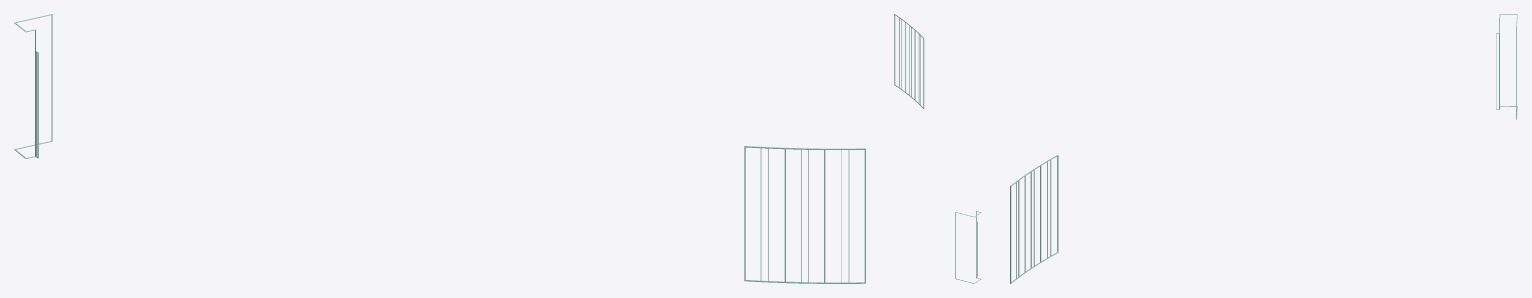
Rendered from 20160125Autodesk_Hospital_Parking Garage_2015_Existing_Garage_-_1st_Level_IfcMember.dae.
3 renders of one model, left to right at view 1: azimuth 30°, elevation 25°; view 2: azimuth 150°, elevation 25°; view 3: azimuth 270°, elevation 25°, orthographic. The views are drawn at different scales.
Parts seen in each view (by area): view 1: no part large enough to name; view 2: 2Wfsm7KO5CbA5Y7ZjTaZKd, 2Wfsm7KO5CbA5Y7ZjTaZLW, 2Wfsm7KO5CbA5Y7ZjTaZKW, 2Wfsm7KO5CbA5Y7ZjTayg4, 2Wfsm7KO5CbA5Y7ZjTaygW, 2Wfsm7KO5CbA5Y7ZjTaygM, 2Wfsm7KO5CbA5Y7ZjTaygV, 2Wfsm7KO5CbA5Y7ZjTaZLu, 2Wfsm7KO5CbA5Y7ZjTaygf; view 3: no part large enough to name.
Part boxes in pixels (bbox=[...]): 2Wfsm7KO5CbA5Y7ZjTaZKd: bbox=[923, 38, 924, 108]; 2Wfsm7KO5CbA5Y7ZjTaZLW: bbox=[914, 30, 915, 100]; 2Wfsm7KO5CbA5Y7ZjTaZKW: bbox=[894, 14, 895, 84]; 2Wfsm7KO5CbA5Y7ZjTayg4: bbox=[918, 34, 919, 103]; 2Wfsm7KO5CbA5Y7ZjTaygW: bbox=[899, 17, 899, 87]; 2Wfsm7KO5CbA5Y7ZjTaygM: bbox=[909, 25, 909, 95]; 2Wfsm7KO5CbA5Y7ZjTaygV: bbox=[911, 26, 911, 96]; 2Wfsm7KO5CbA5Y7ZjTaZLu: bbox=[905, 22, 905, 92]; 2Wfsm7KO5CbA5Y7ZjTaygf: bbox=[901, 19, 901, 88].
Bounding box in the file's own units: 75.96 × 91.68 × 19.48.
